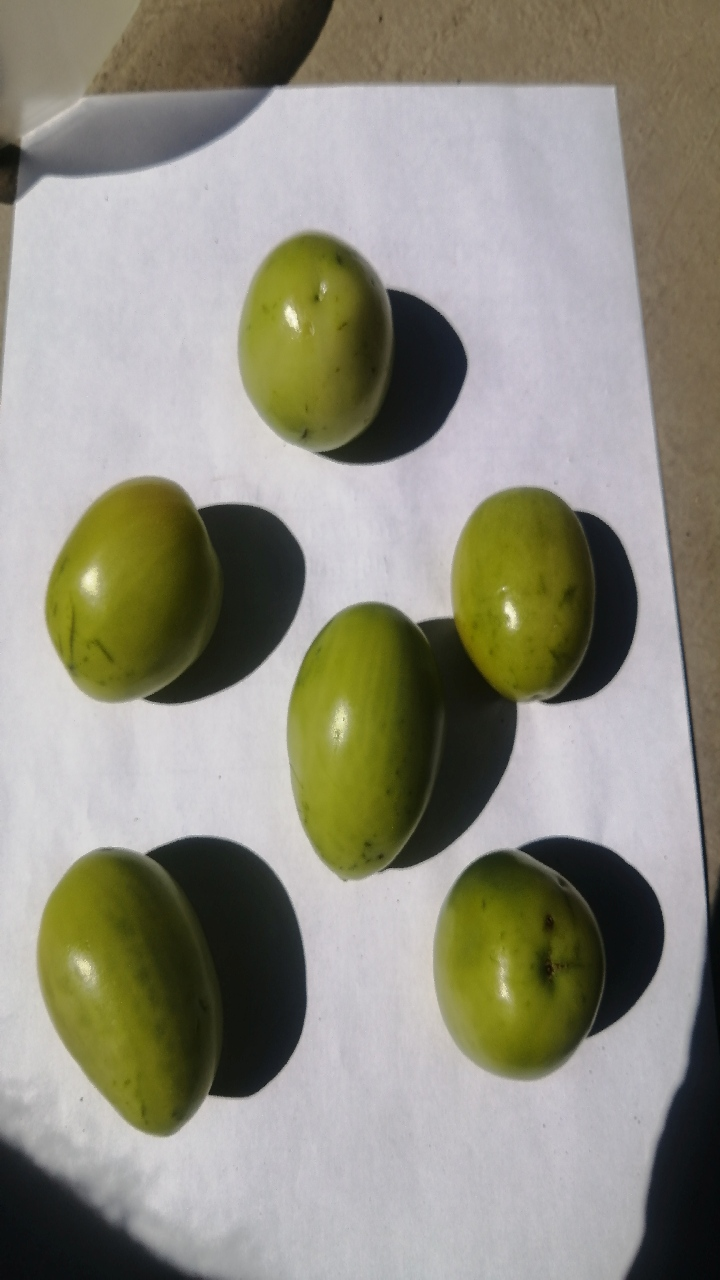tomateVerde: (14, 834, 241, 1140), (11, 455, 232, 722), (404, 829, 618, 1100), (429, 463, 652, 720), (274, 568, 444, 899), (214, 208, 418, 454)
